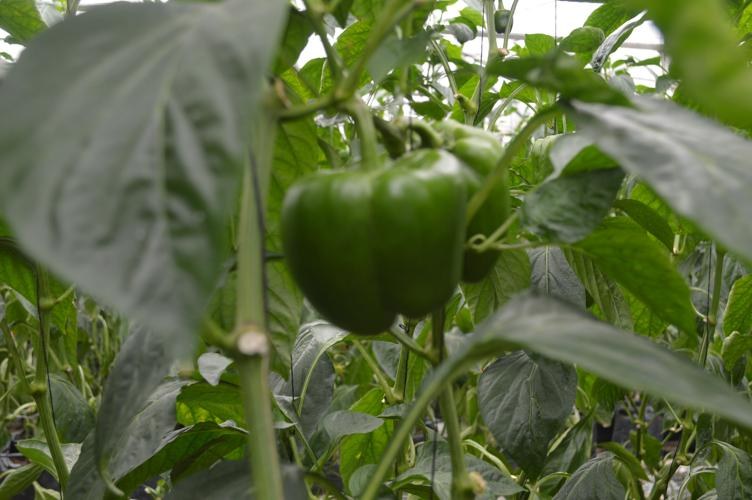BellPepper: (275, 153, 476, 334), (412, 118, 511, 282)
